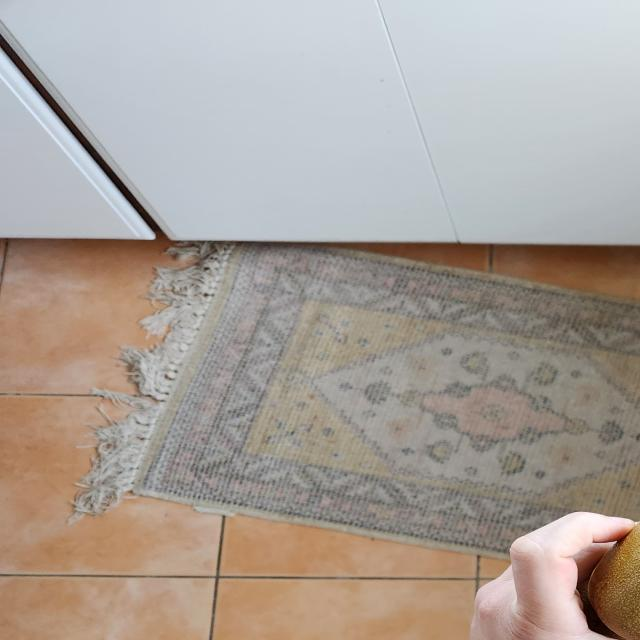kiwi: (586, 499, 640, 635)
